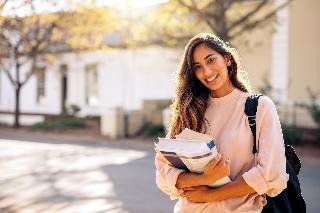person - v3 P: (156, 34, 288, 212)
